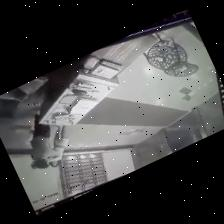person: (30, 113, 57, 167), (48, 125, 68, 166)
